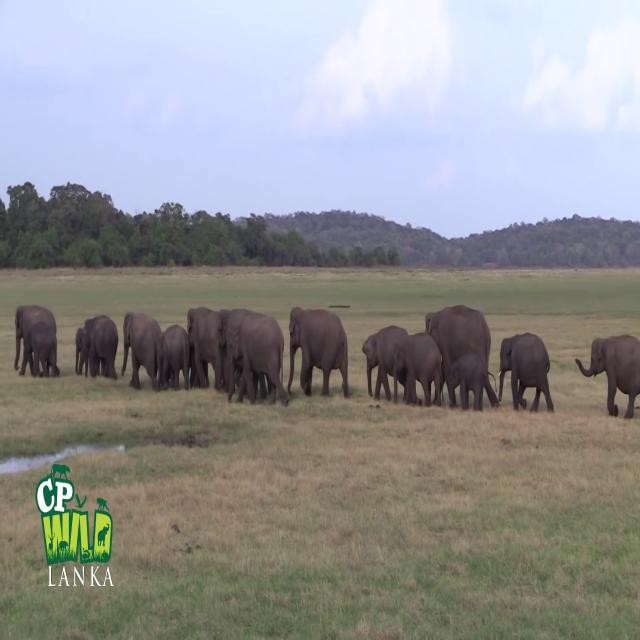Elephant: (217, 308, 289, 407), (425, 304, 491, 405), (287, 306, 349, 398), (574, 334, 640, 418), (498, 332, 554, 412), (362, 325, 416, 404), (393, 331, 443, 407), (186, 306, 228, 389), (121, 312, 163, 391), (14, 304, 58, 377), (448, 353, 500, 411), (75, 314, 118, 380), (160, 324, 190, 391)
